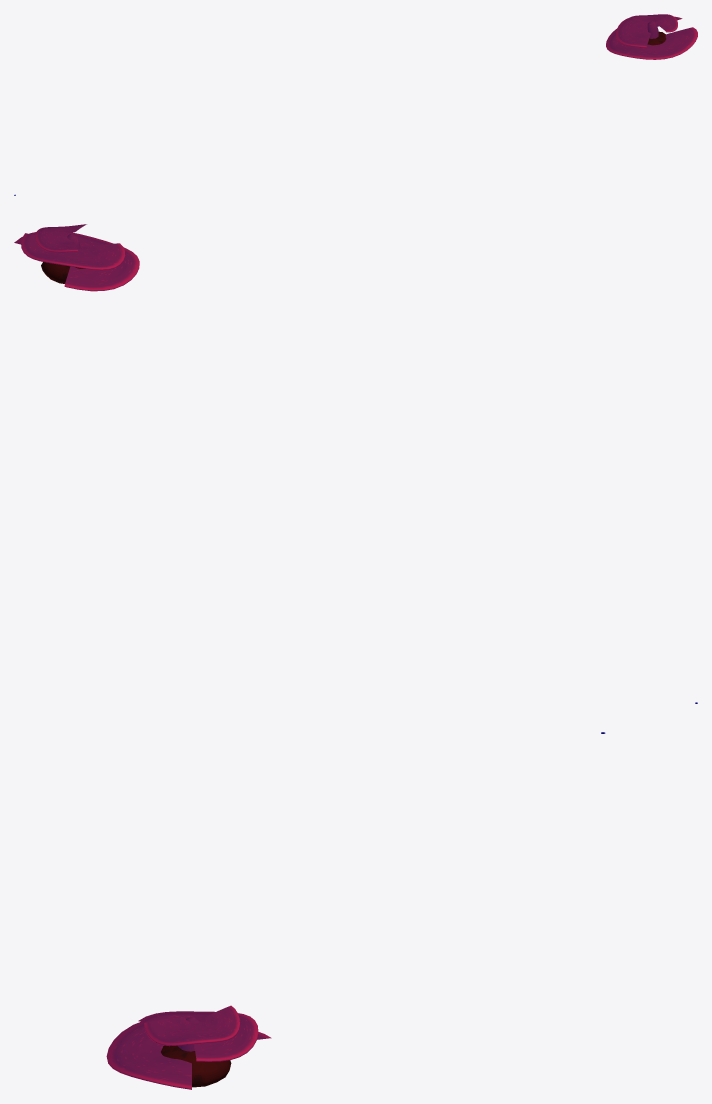
File: montipora_cap.glb
The picture shows the model from 3 angles, top to bottom: view 1: azimuth 30°, elevation 25°; view 2: azimuth 150°, elevation 25°; view 3: azimuth 270°, elevation 25°; orthographic projection. The views are drawn at different scales.
Parts seen in each view (by area): view 1: Body; view 2: Body; view 3: Body.
Boxes of the visible parts, left/top/right/bottom form: Body: left=606, top=14, right=697, bottom=59; Body: left=14, top=224, right=139, bottom=291; Body: left=106, top=1005, right=271, bottom=1089.
Bounding box in the file's own units: 64.72 × 12.78 × 24.24.
Materials: 3 (3 with a texture image).
